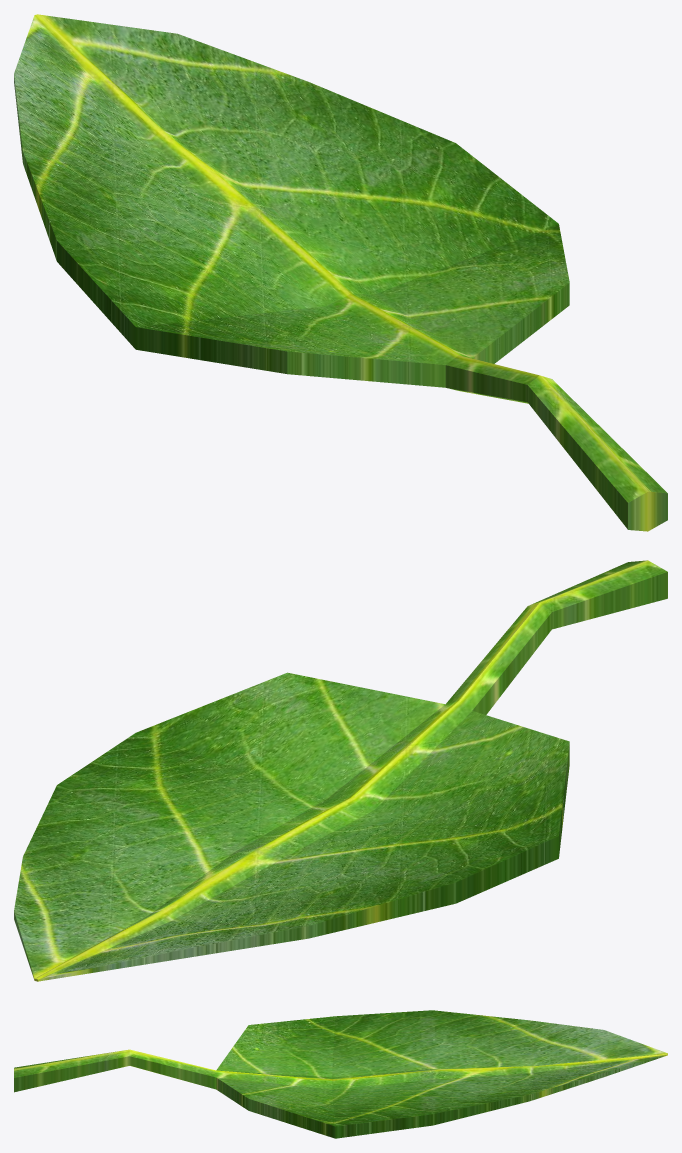
File: LeafNew1.fbx
3 renders of one model, top to bottom at view 1: azimuth 30°, elevation 25°; view 2: azimuth 150°, elevation 25°; view 3: azimuth 270°, elevation 25°, orthographic. The views are drawn at different scales.
Visible parts, largest first — view 1: Box001; view 2: Box001; view 3: Box001.
Part boxes in pixels (left/top/right/bottom): Box001: left=14, top=14, right=667, bottom=531; Box001: left=14, top=560, right=667, bottom=981; Box001: left=14, top=1010, right=667, bottom=1138.
Size of the model in its own units: 29.63 by 6.2 by 74.2.
